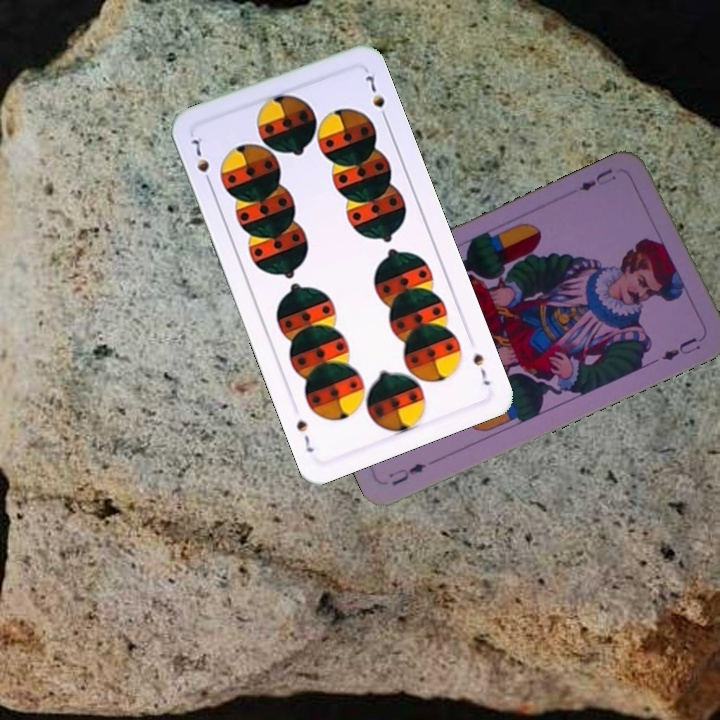EU: (384, 459, 429, 488), (575, 164, 615, 194)
S7: (188, 133, 215, 189), (469, 349, 493, 388)
